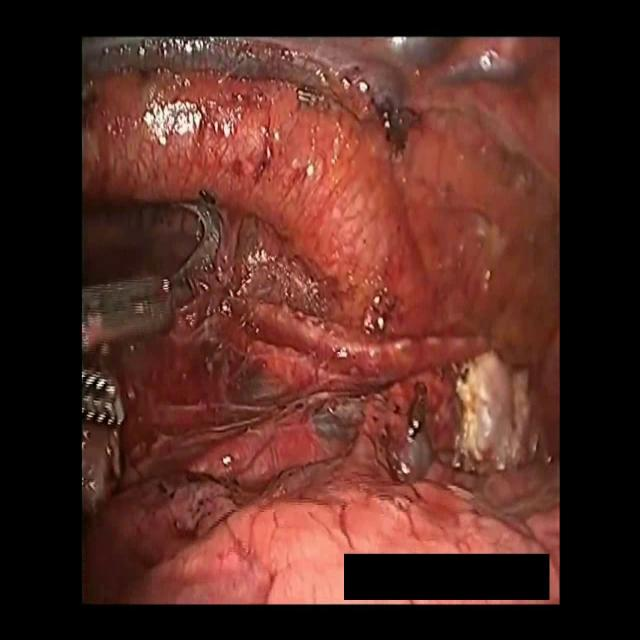surgical-area: (78, 36, 558, 605)
